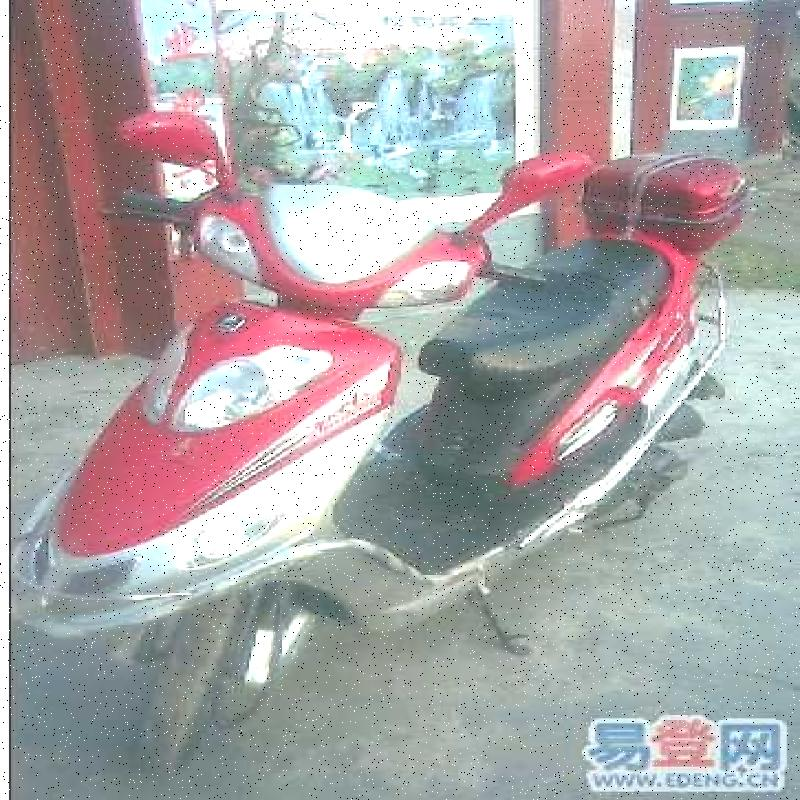bike: (42, 84, 730, 744)
